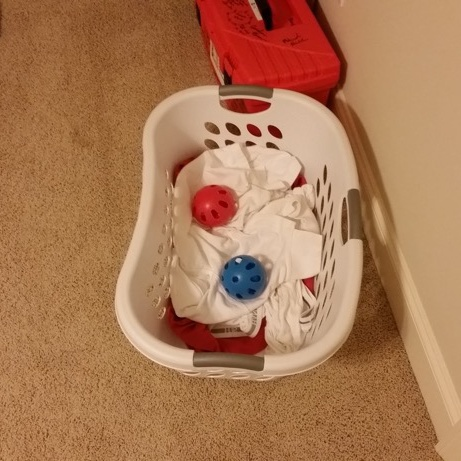ball: (216, 253, 271, 302), (185, 182, 240, 230)
